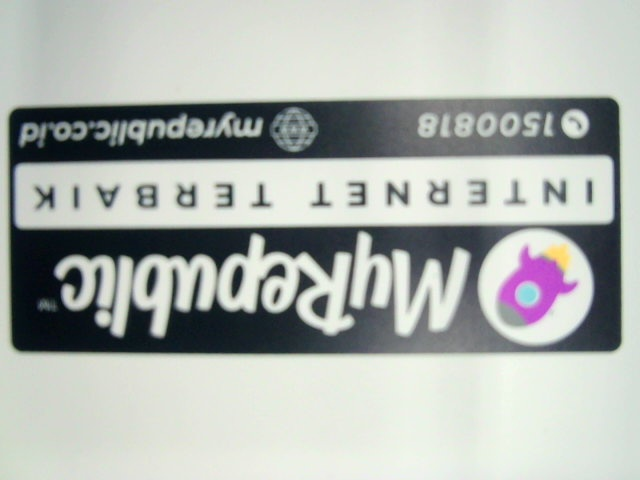BD_MyRepublic: (3, 98, 624, 352)
